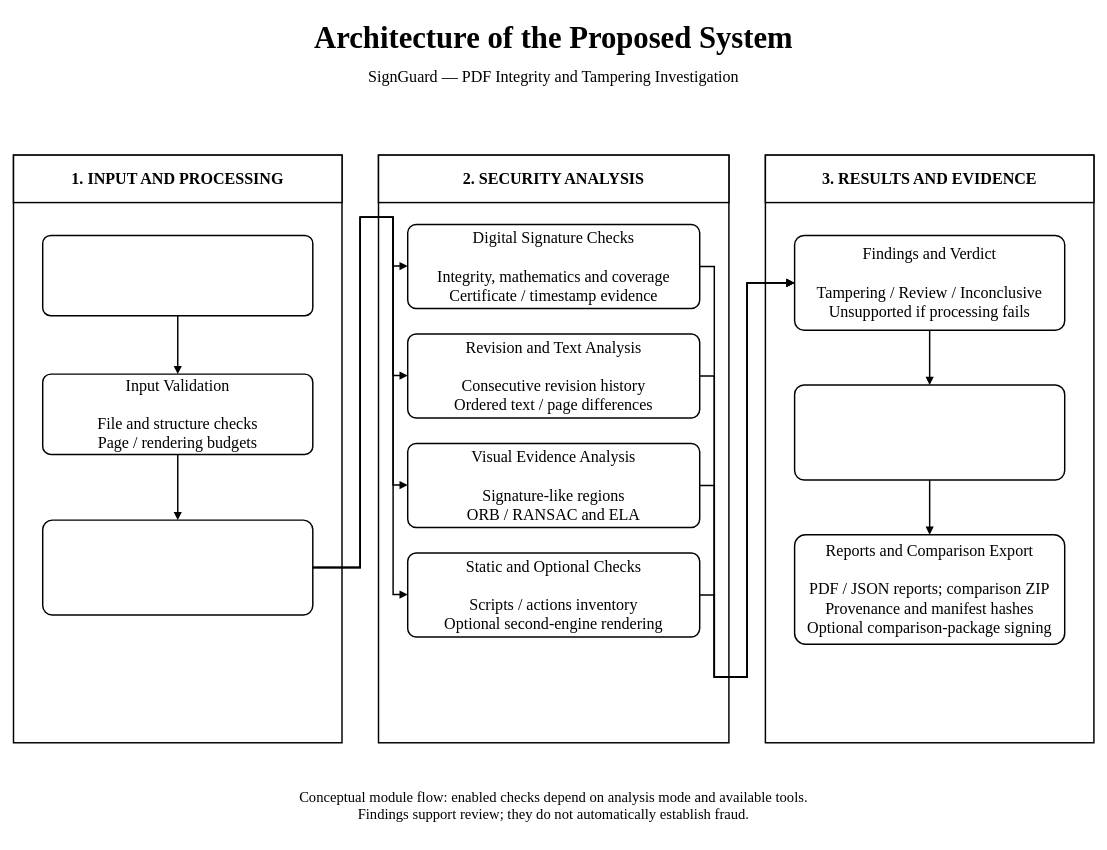
Some shapes in this 1107 by 850 pixel diagram are drawn without their labels. Here are the shapes that lost their labels. From the top down, the centre of each, then its label:
the point at 177,275: Document Input Single PDF / Original–Suspect Pair or Controlled Scenario
the point at 929,432: Evidence Inspection Inspect findings and coverage Review limitations and context
the point at 177,567: Bounded Worker Job admission and timeouts Resource-limited processing
